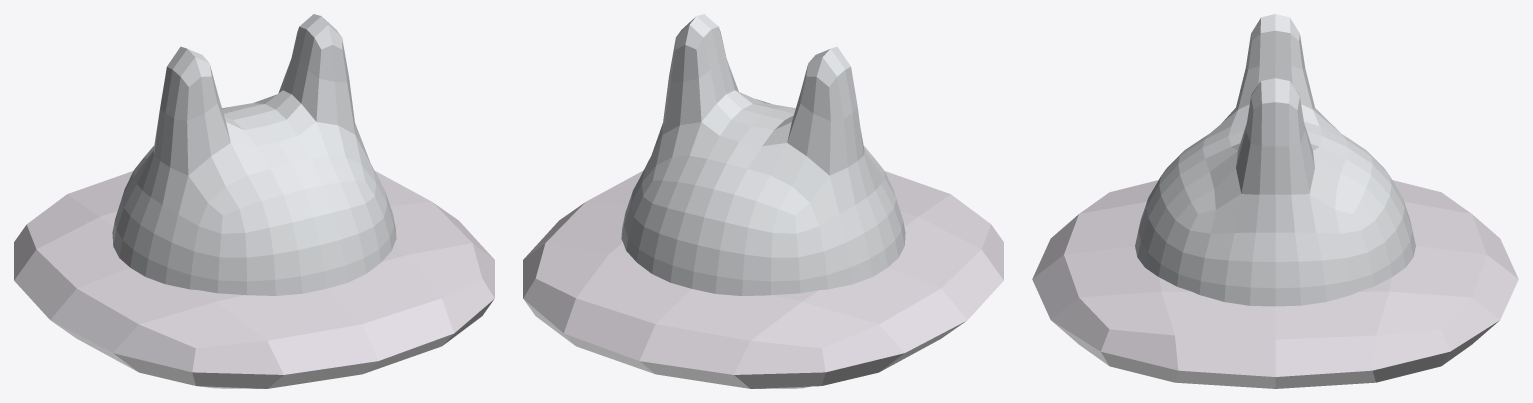
Rendered from space_bunny.fbx.
The picture shows the model from 3 angles, left to right: view 1: azimuth 30°, elevation 25°; view 2: azimuth 150°, elevation 25°; view 3: azimuth 270°, elevation 25°; orthographic projection.
Visible parts, largest first — view 1: Cube.001, Roundcube.001; view 2: Cube.001, Roundcube.001; view 3: Cube.001, Roundcube.001.
Part boxes in pixels (x1=…): Cube.001: x1=14, y1=170, x2=494, y2=388; Roundcube.001: x1=112, y1=14, x2=396, y2=295; Cube.001: x1=523, y1=170, x2=1003, y2=388; Roundcube.001: x1=621, y1=14, x2=905, y2=295; Cube.001: x1=1032, y1=180, x2=1518, y2=388; Roundcube.001: x1=1135, y1=14, x2=1415, y2=306.
Size of the model in its own units: 424 by 290 by 446.
Materials: 3 (1 with a texture image).
